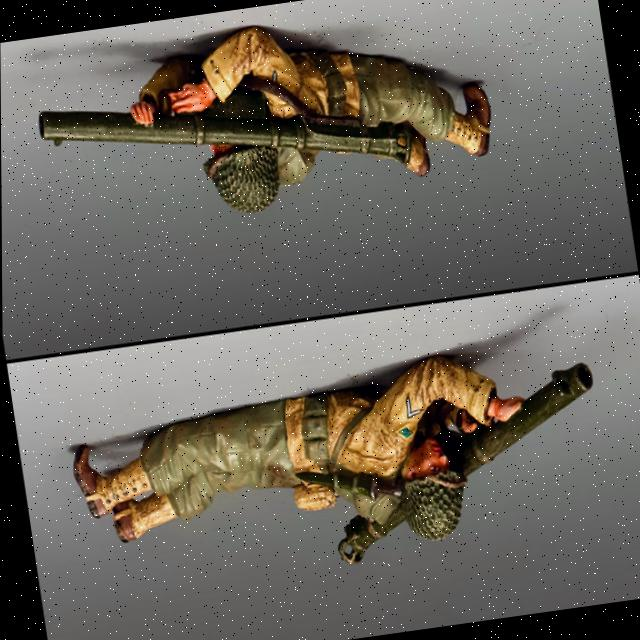rocket: (315, 356, 613, 566), (35, 59, 415, 214)
